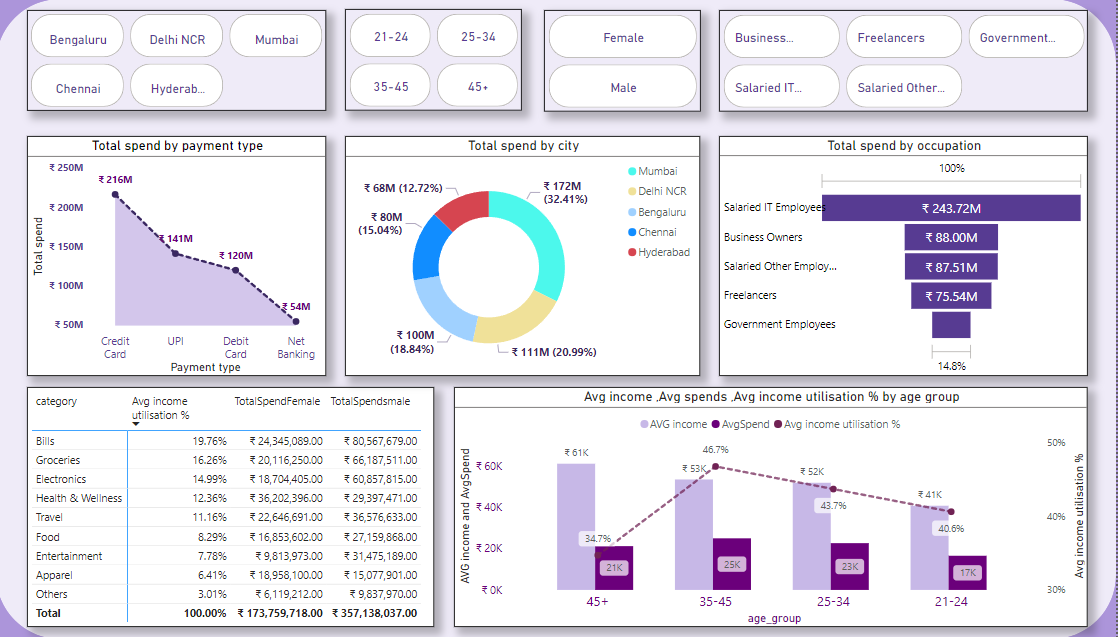

Layout of this report page (visuals, bound fields, positions):
{"tool":"powerbi","page":{"name":"SPENDING INSIGTS","canvas":[1400,800],"ordinal":2},"visuals":[{"type":"shape","box":[0,0,1400,800],"z":0},{"type":"advancedSlicerVisual","fields":{"Values":["dim_customers.age_group"]},"box":[436.7,12.2,221.1,126.7],"z":1000},{"type":"advancedSlicerVisual","fields":{"Values":["dim_customers.city"]},"box":[38.9,13.3,374.4,125.6],"z":2000},{"type":"advancedSlicerVisual","fields":{"Values":["dim_customers.gender"]},"box":[685.6,13.3,195.6,126.7],"z":3000},{"type":"advancedSlicerVisual","fields":{"Values":["dim_customers.occupation"]},"box":[903.3,13.3,461.1,126.7],"z":4000},{"type":"funnel","fields":{"Y":["fact_spends.Total spend"],"Category":["dim_customers.occupation"]},"box":[903.3,171.1,461.1,300],"z":5000},{"type":"areaChart","title":"Total spend by payment type","fields":{"Category":["fact_spends.payment_type"],"Y":["fact_spends.Total spend"]},"box":[38.9,171.1,374.4,300],"z":6000},{"type":"pivotTable","fields":{"Rows":["fact_spends.category"],"Values":["dim_customers.Avg income utilisation %","fact_spends.TotalSpendFemale","fact_spends.TotalSpendsmale"]},"box":[38.9,484.4,508.9,300],"z":7000},{"type":"donutChart","fields":{"Y":["fact_spends.Total spend"],"Category":["dim_customers.city"]},"box":[436.7,171.1,444.4,300],"z":8000},{"type":"lineClusteredColumnComboChart","title":"Avg income ,Avg spends ,Avg income utilisation % by age group","fields":{"Category":["dim_customers.age_group"],"Y":["dim_customers.AVG income","fact_spends.AvgMonthlySpendPerCustomer"],"Y2":["dim_customers.Avg income utilisation %"]},"box":[572.2,484.4,792.2,300],"z":8001}]}

Visuals, with their boxes in screenshot pixels (x1, y1, x2, y2), scaled from the page's 1400x800 canvas onto the 1118x637 screenshot:
shape: rect(0, 0, 1117, 636)
advancedSlicerVisual - dim_customers.age_group: rect(349, 10, 525, 111)
advancedSlicerVisual - dim_customers.city: rect(31, 11, 330, 111)
advancedSlicerVisual - dim_customers.gender: rect(548, 11, 704, 111)
advancedSlicerVisual - dim_customers.occupation: rect(721, 11, 1090, 111)
funnel - fact_spends.Total spend x dim_customers.occupation: rect(721, 136, 1090, 375)
"Total spend by payment type" areaChart: rect(31, 136, 330, 375)
pivotTable - fact_spends.category x dim_customers.Avg income utilisation %: rect(31, 386, 437, 625)
donutChart - fact_spends.Total spend x dim_customers.city: rect(349, 136, 704, 375)
"Avg income ,Avg spends ,Avg income utilisation % by age group" lineClusteredColumnComboChart: rect(457, 386, 1090, 625)
